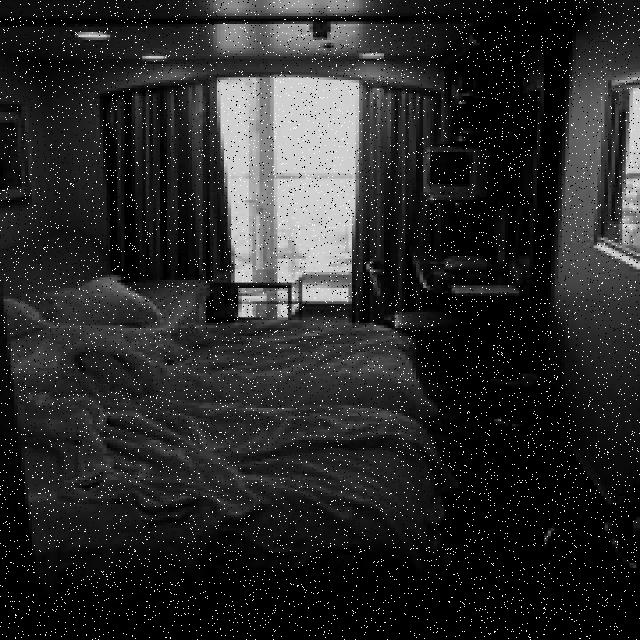bed: (0, 283, 468, 640)
